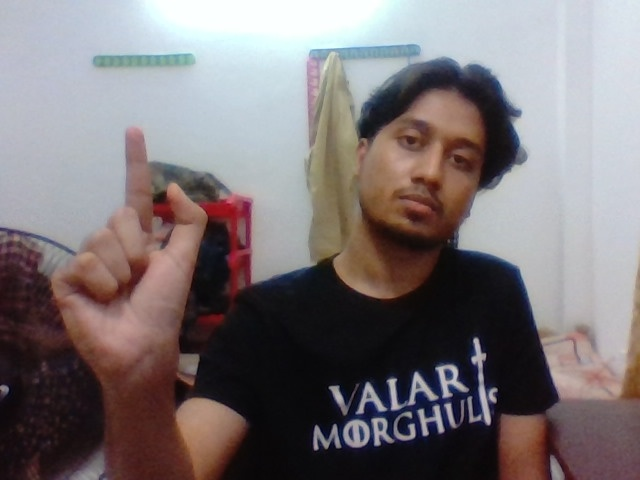J: (59, 121, 216, 317)
